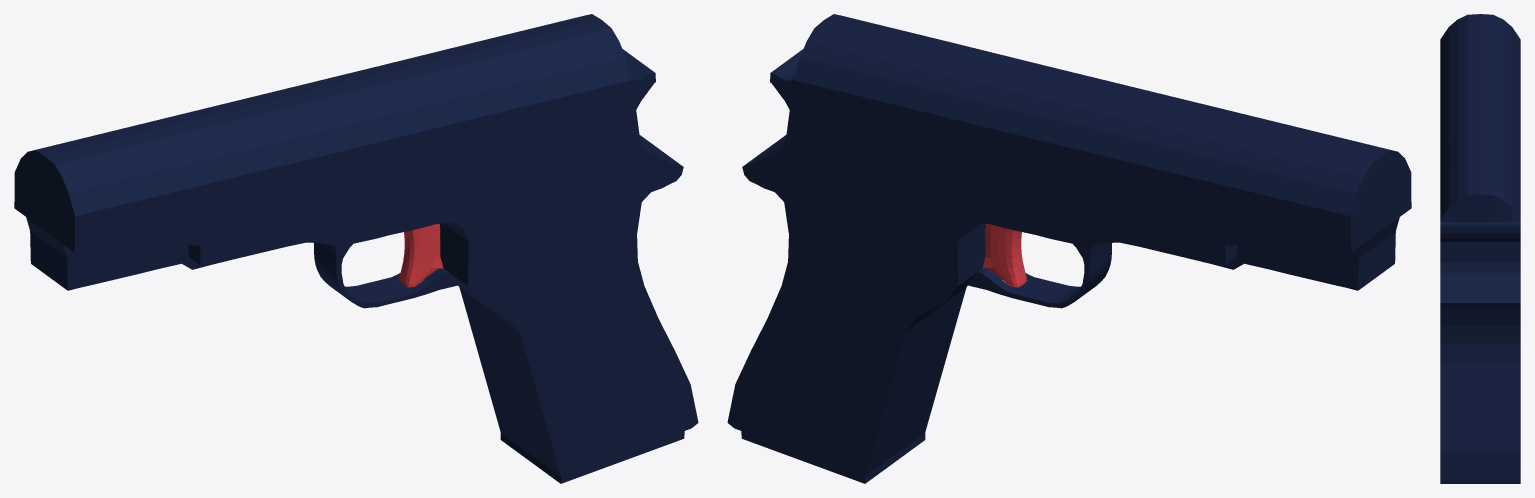
The model's file is PistolModel.fbx.
3 renders of one model, left to right at view 1: azimuth 30°, elevation 25°; view 2: azimuth 150°, elevation 25°; view 3: azimuth 270°, elevation 25°, orthographic. The views are drawn at different scales.
Visible parts, largest first — view 1: Gun; view 2: Gun; view 3: Gun.
Boxes of the visible parts, x1,y1,x2,y2 form: Gun: (14, 14, 698, 483); Gun: (727, 14, 1411, 483); Gun: (1440, 14, 1520, 483).
Size of the model in its own units: 37.59 by 146 by 224.
